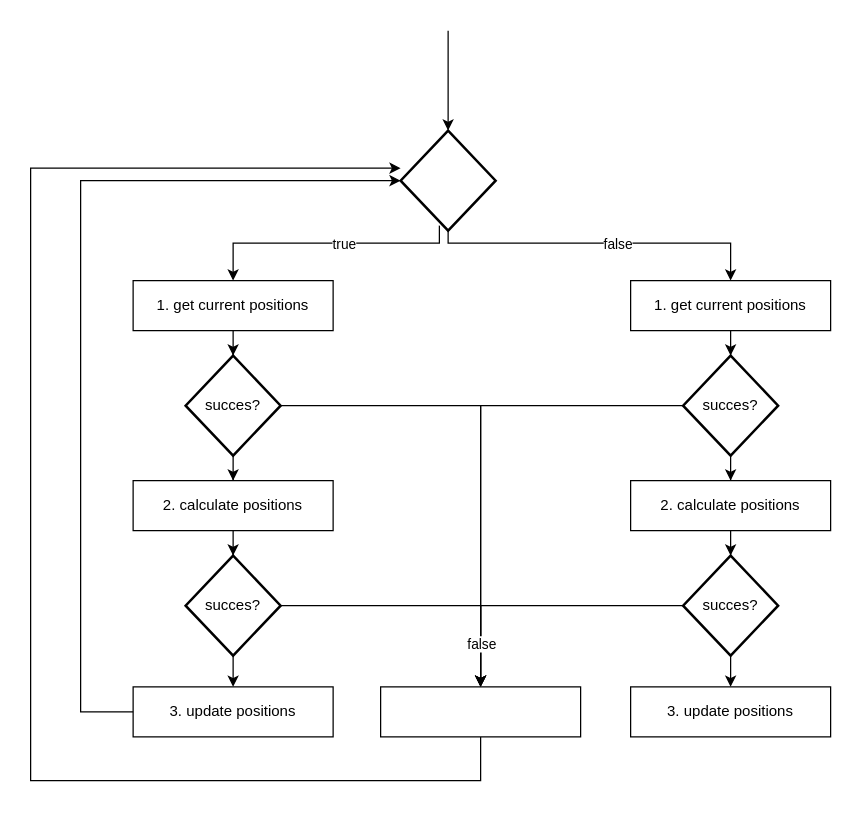
Image size: 853x813. Some labels were removed from this diagram. The shapes that lost their labels are listed below. From the top down, each one's box as (x1, y1, x2, y2) in pixels, then its label:
(399, 129, 496, 231): isRunning?
(379, 686, 581, 737): Call onError
